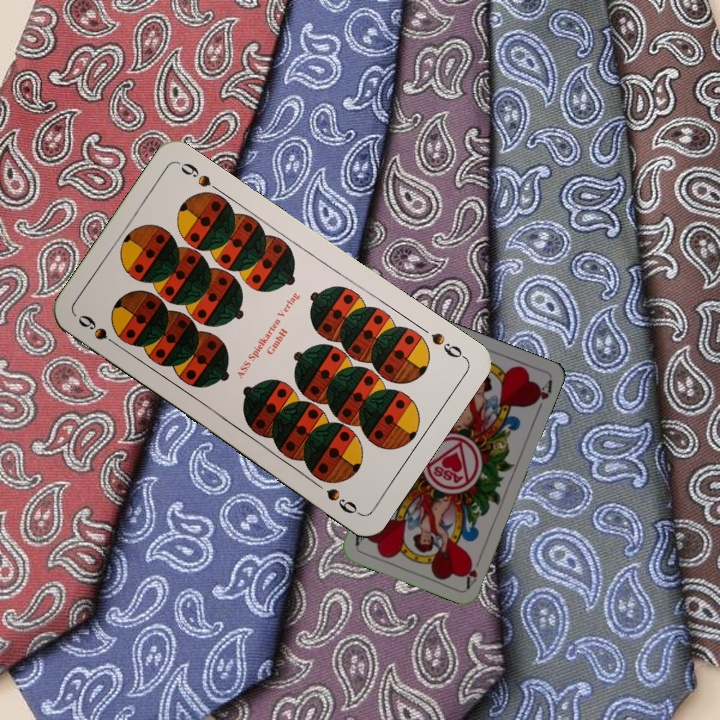HA: (462, 551, 485, 590)
S9: (73, 310, 125, 352), (426, 328, 469, 362)
